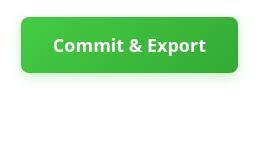
CommitButton Component (Story 7.9) › Committing State › should show loading state while committing
The image size is (258, 160).
Click the button with test id "commit-button": point(129, 45) top-left (21, 17), bottom-right (238, 73)
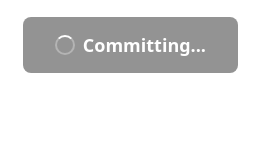
Expected: the button with test id "commit-button" reads "Committing...", top-left (23, 17), bottom-right (238, 73)
